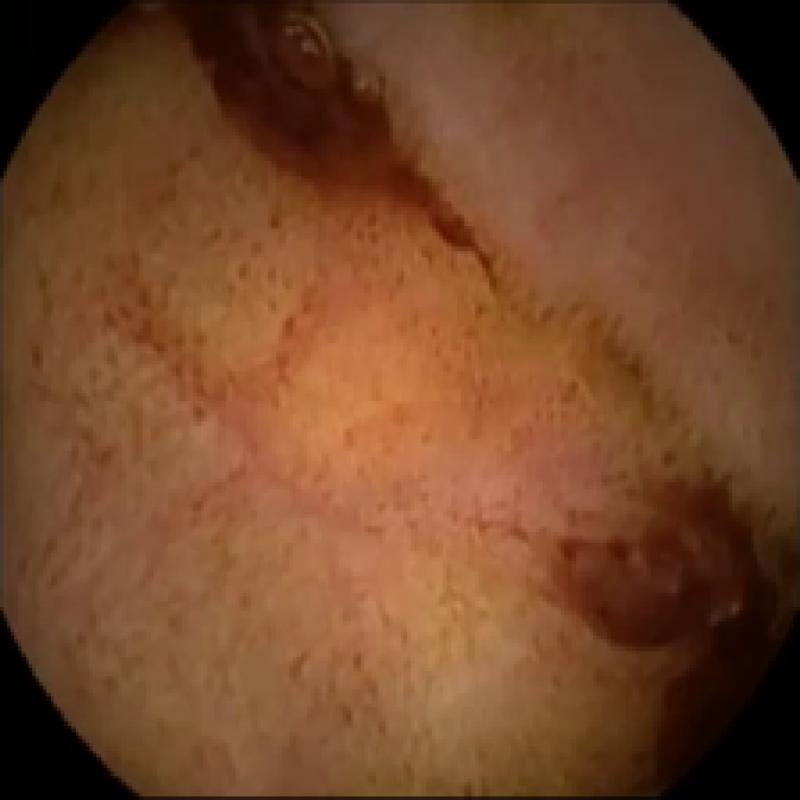bleeding: (179, 0, 500, 293), (529, 486, 789, 781)
